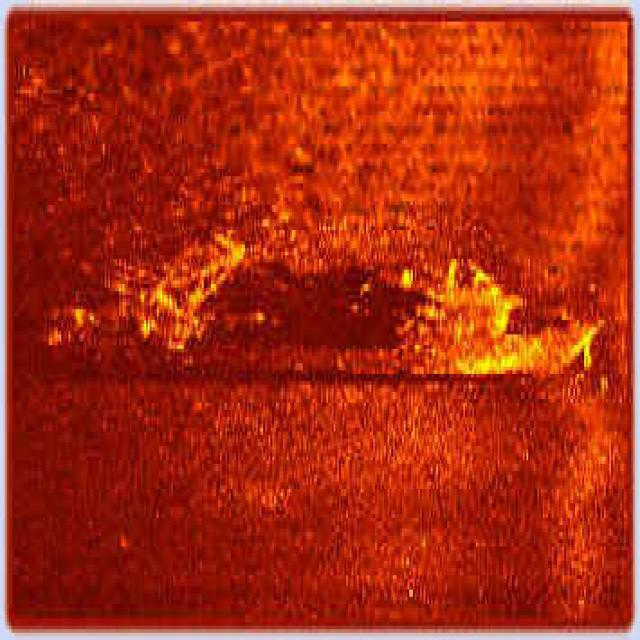ship: (38, 234, 602, 388)
